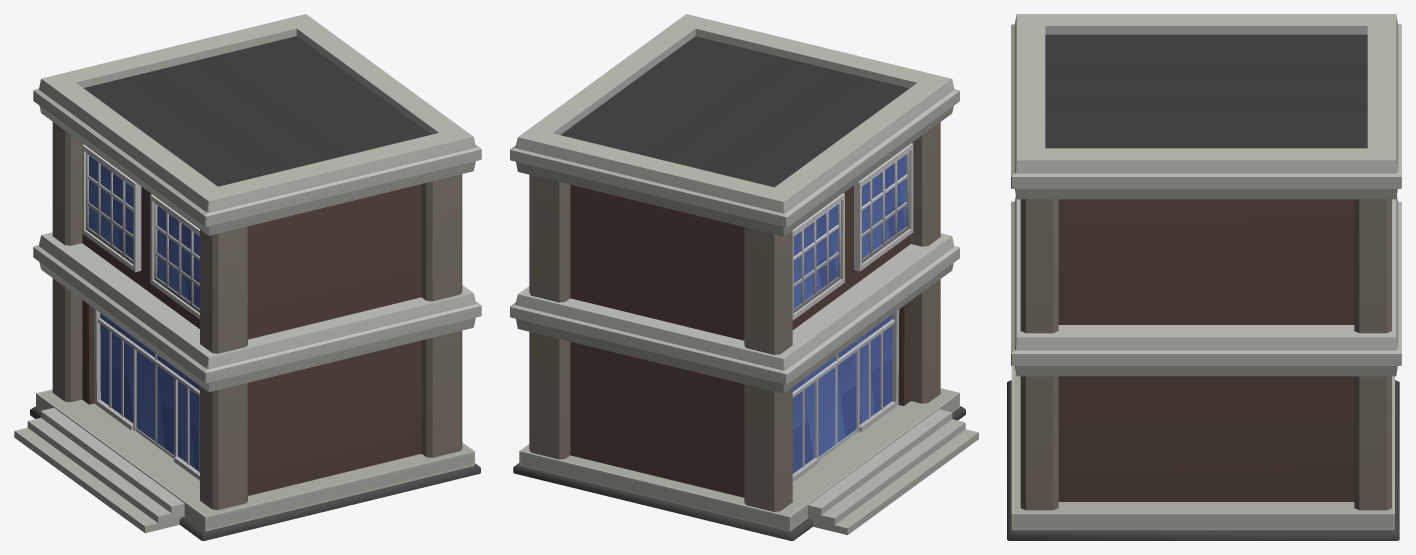
Rendered from Building_9_2_JJ.fbx.
The picture shows the model from 3 angles, left to right: view 1: azimuth 30°, elevation 25°; view 2: azimuth 150°, elevation 25°; view 3: azimuth 270°, elevation 25°; orthographic projection. The views are drawn at different scales.
Parts seen in each view (by area): view 1: Building_9_2_JJ; view 2: Building_9_2_JJ; view 3: Building_9_2_JJ.
Boxes of the visible parts, <box> form: Building_9_2_JJ: <box>14,14,481,540</box>; Building_9_2_JJ: <box>510,14,978,540</box>; Building_9_2_JJ: <box>1007,14,1401,540</box>.
Bounding box in the file's own units: 947 × 958 × 906.
